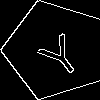Y: (30, 25, 87, 82)
